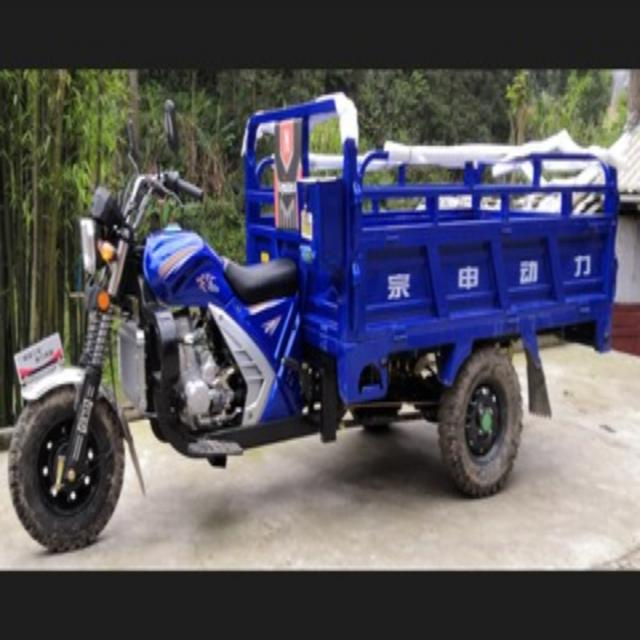tricycle: (8, 90, 616, 548)
